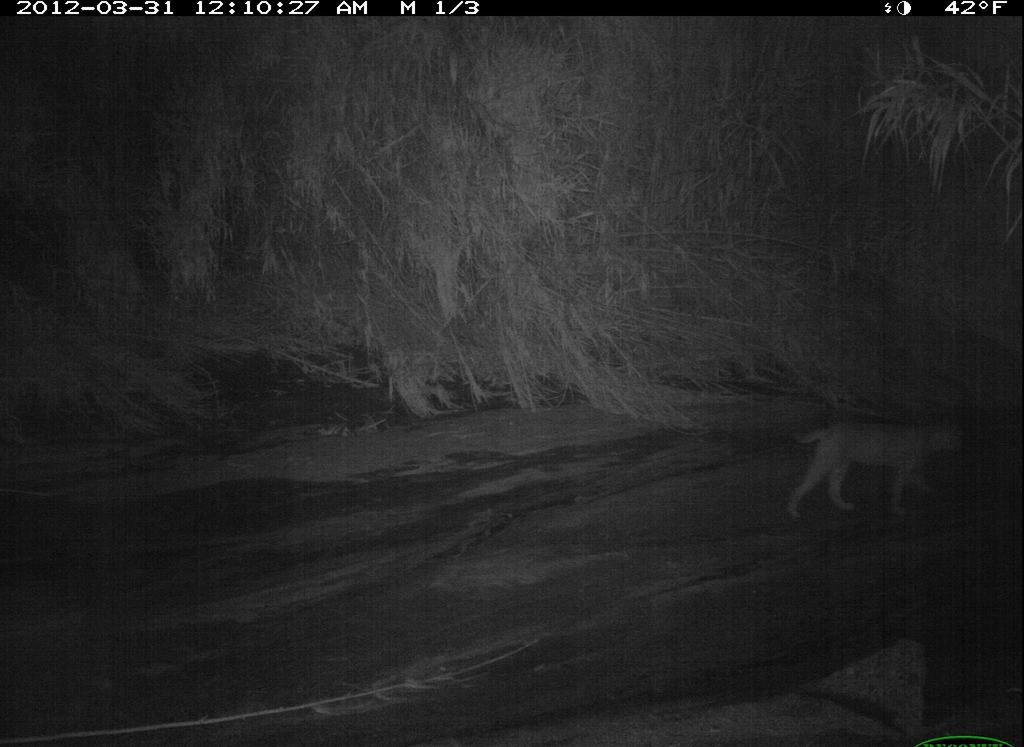bobcat: (781, 405, 972, 545)
